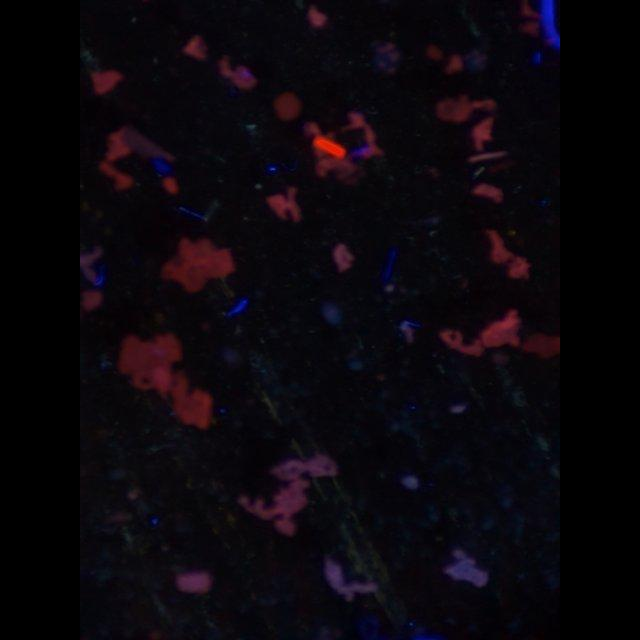Fibre: (444, 548, 491, 590)
Fragment: (160, 237, 238, 293), (438, 308, 522, 360)
